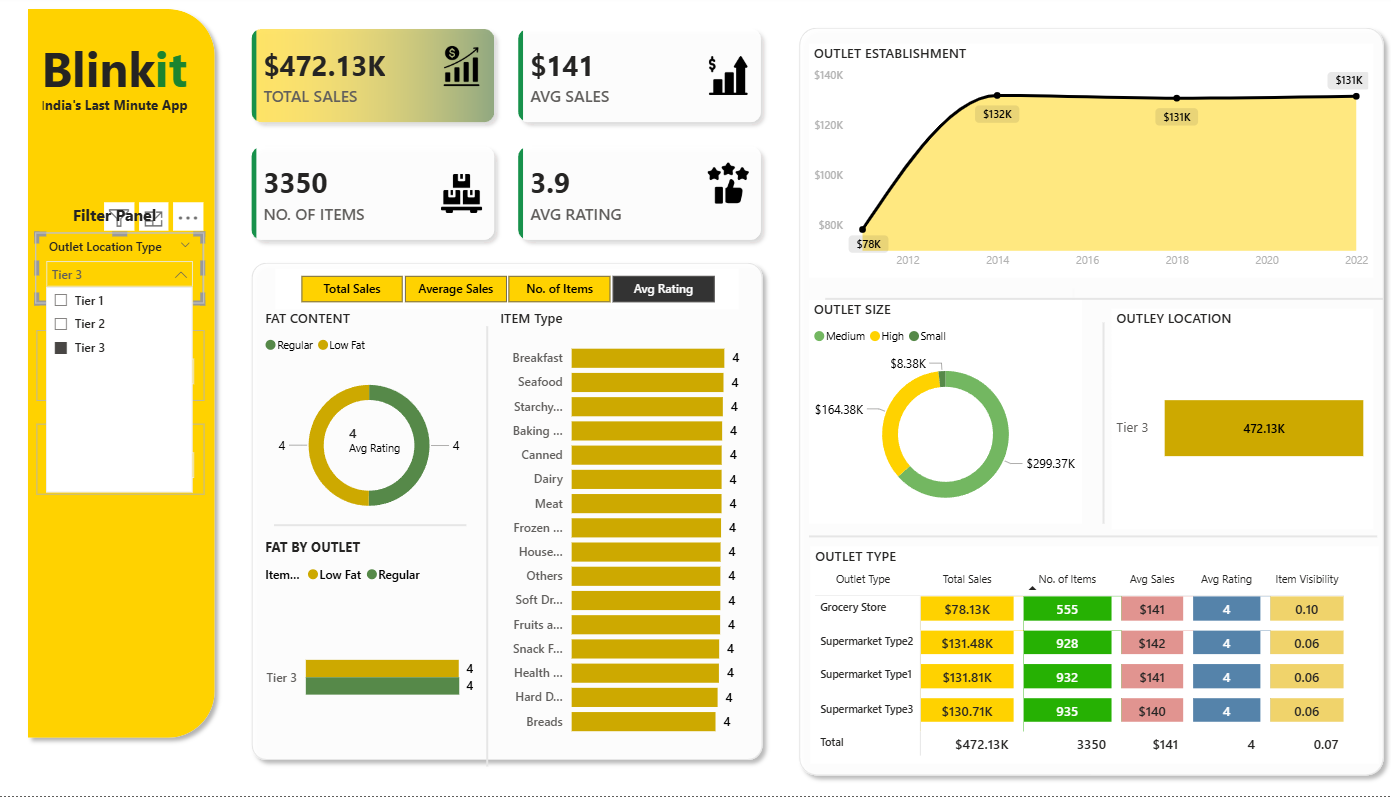

Layout of this report page (visuals, bound fields, positions):
{"tool":"powerbi","page":{"name":"Page 1","canvas":[1400,800],"ordinal":0},"visuals":[{"type":"shape","box":[19.5,0,205.6,750.4],"z":0},{"type":"textbox","box":[37.5,30,169.6,78],"z":1000},{"type":"textbox","box":[37.5,91.6,169.6,30],"z":2000},{"type":"cardVisual","fields":{"Data":["BlinkIT Grocery Data.Total Sales","BlinkIT Grocery Data.Average Sales","BlinkIT Grocery Data.No. of Items","BlinkIT Grocery Data.Avg Rating"]},"box":[225.1,0,570.3,270.2],"z":3000},{"type":"shape","box":[244.6,255.1,531.3,517.8],"z":4000},{"type":"donutChart","title":"FAT CONTENT","fields":{"Y":["BlinkIT Grocery Data.Total Sales"],"Category":["BlinkIT Grocery Data.Item Fat Content"]},"box":[262.7,310.7,219.1,229.6],"z":5000},{"type":"slicer","fields":{"Values":["Metrics.Metrics"]},"box":[277.7,270.2,465.3,40.5],"z":6000},{"type":"cardVisual","fields":{"Data":["BlinkIT Grocery Data.Total Sales"]},"box":[322.7,400.7,120.1,81],"z":7000},{"type":"clusteredBarChart","title":"FAT BY OUTLET","fields":{"Y":["BlinkIT Grocery Data.Total Sales"],"Category":["BlinkIT Grocery Data.Outlet Location Type"],"Series":["BlinkIT Grocery Data.Item Fat Content"]},"box":[262.7,540.3,219.1,229.6],"z":8000},{"type":"shape","box":[276,515.1,193.3,25.4],"z":9000},{"type":"shape","box":[1072.1,290,16.5,225.1],"z":10000},{"type":"barChart","title":"ITEM Type","fields":{"Y":["BlinkIT Grocery Data.Total Sales"],"Category":["BlinkIT Grocery Data.Item Type"]},"box":[498.3,310.7,255.1,439.8],"z":11000},{"type":"shape","box":[794.9,19.1,605.4,769.4],"z":12000},{"type":"lineChart","title":"OUTLET ESTABLISHMENT","fields":{"Y":["BlinkIT Grocery Data.Total Sales"],"Category":["BlinkIT Grocery Data.Outlet Establishment Year"]},"box":[814,44.5,567.2,235.3],"z":13000},{"type":"shape","box":[814,527.8,571,22.9],"z":14000},{"type":"donutChart","title":"OUTLET SIZE","fields":{"Y":["BlinkIT Grocery Data.Total Sales"],"Category":["BlinkIT Grocery Data.Outlet Size"]},"box":[814,301.4,274.7,225.1],"z":15000},{"type":"shape","box":[1100.1,324.3,19.1,202.2],"z":16000},{"type":"shape","box":[482,328.1,16.5,442.6],"z":17000},{"type":"funnel","title":"OUTLEY LOCATION","fields":{"Y":["Sum(BlinkIT Grocery Data.Sales)"],"Category":["BlinkIT Grocery Data.Outlet Location Type"]},"box":[1117.9,310.3,263.3,221.3],"z":18000},{"type":"shape","box":[830.3,288.5,560.9,22.9],"z":19000},{"type":"pivotTable","title":"OUTLET TYPE","fields":{"Values":["BlinkIT Grocery Data.Total Sales","BlinkIT Grocery Data.No. of Items","BlinkIT Grocery Data.Average Sales","BlinkIT Grocery Data.Avg Rating","Avg(BlinkIT Grocery Data.Item Visibility)"],"Rows":["BlinkIT Grocery Data.Outlet Type"]},"box":[815.2,549.4,571,218.8],"z":20000},{"type":"slicer","fields":{"Values":["BlinkIT Grocery Data.Outlet Location Type"]},"box":[36.9,234,169.2,71.2],"z":21000},{"type":"slicer","fields":{"Values":["BlinkIT Grocery Data.Outlet Size"]},"box":[38.2,331.9,169.2,71.2],"z":22000},{"type":"slicer","fields":{"Values":["BlinkIT Grocery Data.Item Type"]},"box":[38.2,426.1,169.2,71.2],"z":23000},{"type":"textbox","box":[68.7,199.7,106.8,34.3],"z":24000}]}

Visuals, with their boxes on the page's 1400x800 design canvas (x1, y1, x2, y2). These are canvas units, not pixel positions in the 1391x797 screenshot, which may show the page scaled, cropped or inside an application window:
shape: l=20, t=0, r=225, b=750
textbox: l=38, t=30, r=207, b=108
textbox: l=38, t=92, r=207, b=122
cardVisual - BlinkIT Grocery Data.Total Sales x BlinkIT Grocery Data.Average Sales: l=225, t=0, r=795, b=270
shape: l=245, t=255, r=776, b=773
"FAT CONTENT" donutChart: l=263, t=311, r=482, b=540
slicer - Metrics.Metrics: l=278, t=270, r=743, b=311
cardVisual - BlinkIT Grocery Data.Total Sales: l=323, t=401, r=443, b=482
"FAT BY OUTLET" clusteredBarChart: l=263, t=540, r=482, b=770
shape: l=276, t=515, r=469, b=540
shape: l=1072, t=290, r=1089, b=515
"ITEM Type" barChart: l=498, t=311, r=753, b=750
shape: l=795, t=19, r=1400, b=788
"OUTLET ESTABLISHMENT" lineChart: l=814, t=44, r=1381, b=280
shape: l=814, t=528, r=1385, b=551
"OUTLET SIZE" donutChart: l=814, t=301, r=1089, b=526
shape: l=1100, t=324, r=1119, b=526
shape: l=482, t=328, r=498, b=771
"OUTLEY LOCATION" funnel: l=1118, t=310, r=1381, b=532
shape: l=830, t=288, r=1391, b=311
"OUTLET TYPE" pivotTable: l=815, t=549, r=1386, b=768
slicer - BlinkIT Grocery Data.Outlet Location Type: l=37, t=234, r=206, b=305
slicer - BlinkIT Grocery Data.Outlet Size: l=38, t=332, r=207, b=403
slicer - BlinkIT Grocery Data.Item Type: l=38, t=426, r=207, b=497
textbox: l=69, t=200, r=176, b=234
